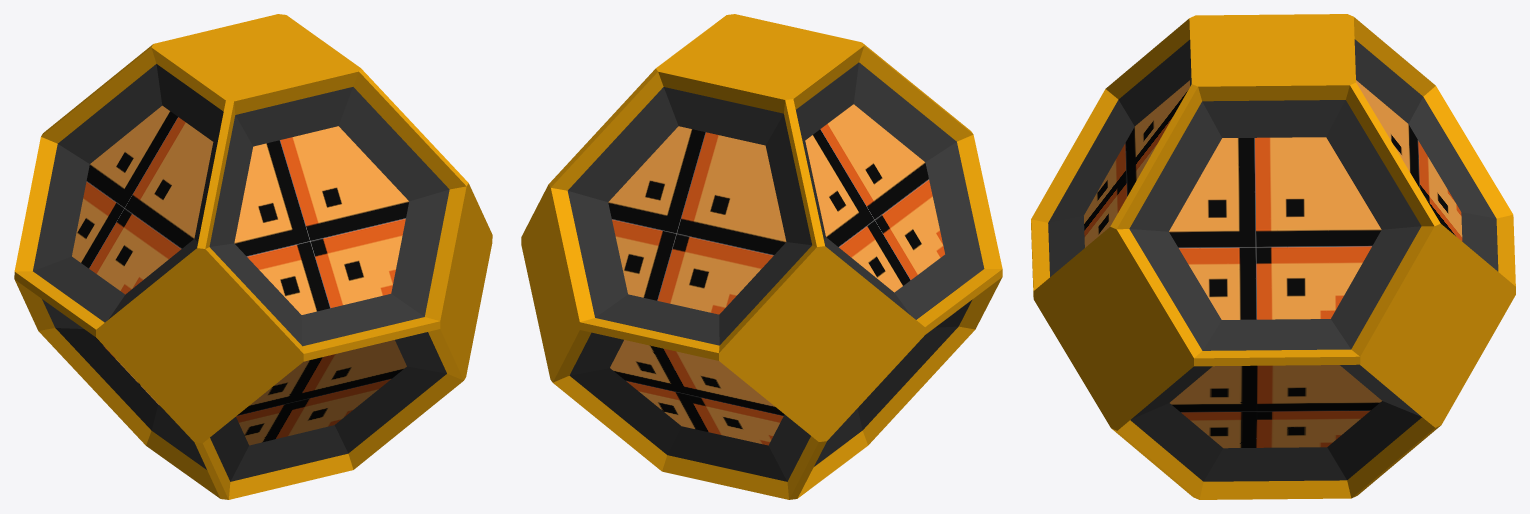
Rendered from NewItemBox.FBX.
3 views of the same model, side by side, from view 1: azimuth 30°, elevation 25°; view 2: azimuth 150°, elevation 25°; view 3: azimuth 270°, elevation 25° (orthographic). The views are drawn at different scales.
Parts seen in each view (by area): view 1: NewItemBox; view 2: NewItemBox; view 3: NewItemBox.
Part boxes in pixels (box(x1,y1,x2,y2)): NewItemBox: box(14, 14, 492, 499); NewItemBox: box(521, 14, 1002, 499); NewItemBox: box(1031, 14, 1515, 499).
Bounding box in the file's own units: 2.95 × 2.8 × 2.95.
3 materials, 1 textured.
